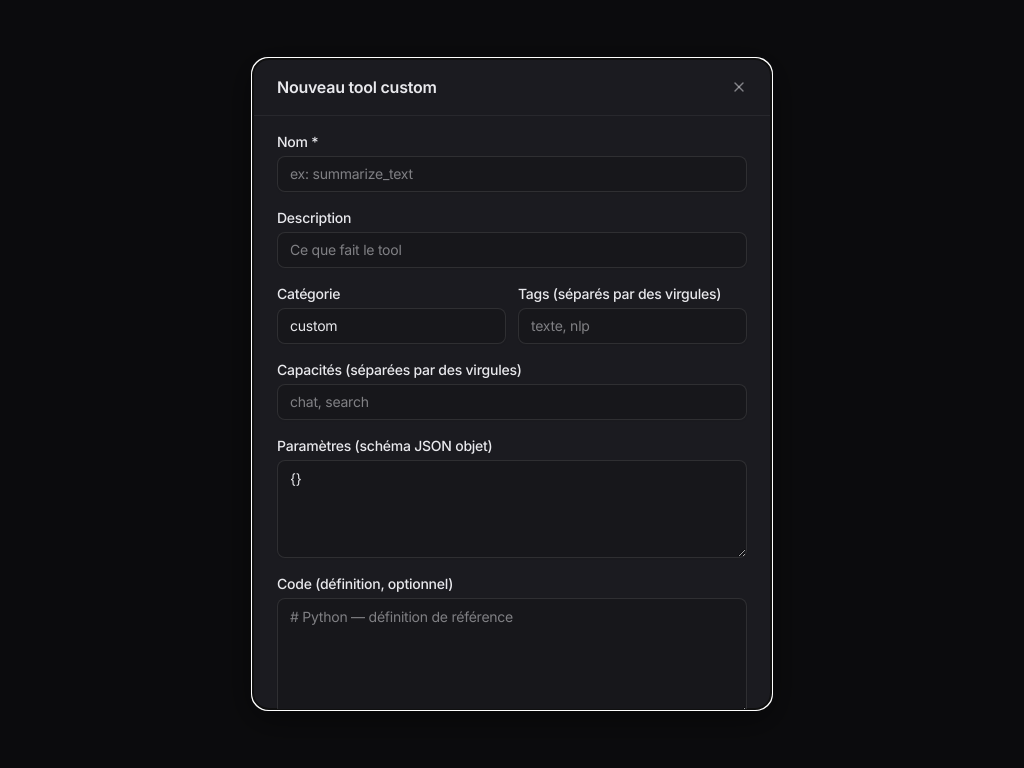
Test: ToolDialog — création de tool custom › refuse un JSON non-objet (array) avec un message explicite
Replace the text in the text box with placeholder "{\"text\": {\"type\": \"string\"}}" with "[1, 2]" at [512, 509], box [277,460,747,558]
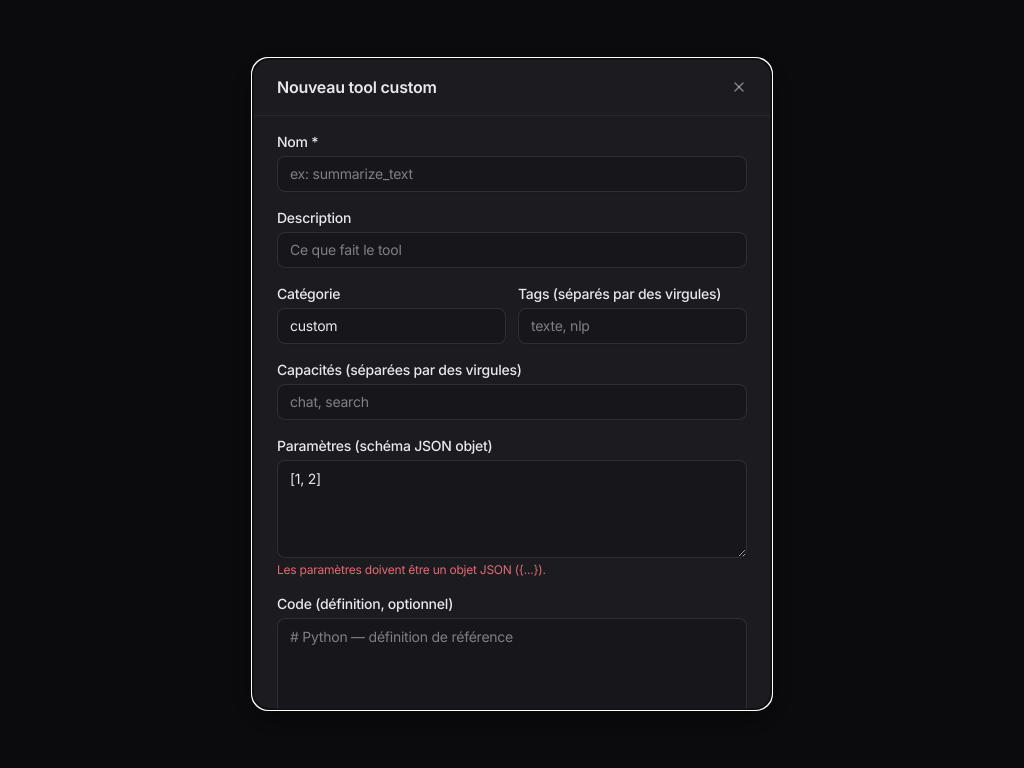
Expected: the text "Les paramètres doivent être un objet JSON ({...})." is shown, [277,562,546,577]
